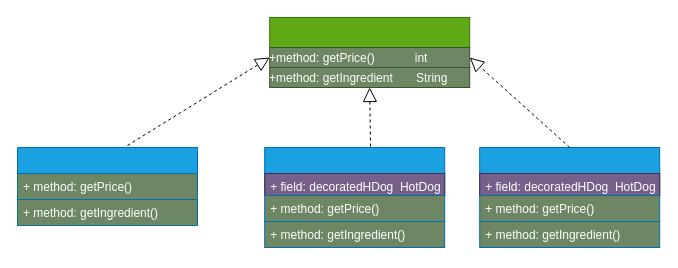
This 678x268 diagram has some shape labels left out. Here are the shapes that lost their labels. From the top down, the box of each, then its label:
(269, 16, 470, 48): «interface» HotDog
(16, 146, 198, 226): BasicHDog
(264, 146, 445, 196): OnionHDog
(479, 146, 660, 196): PigHDog
